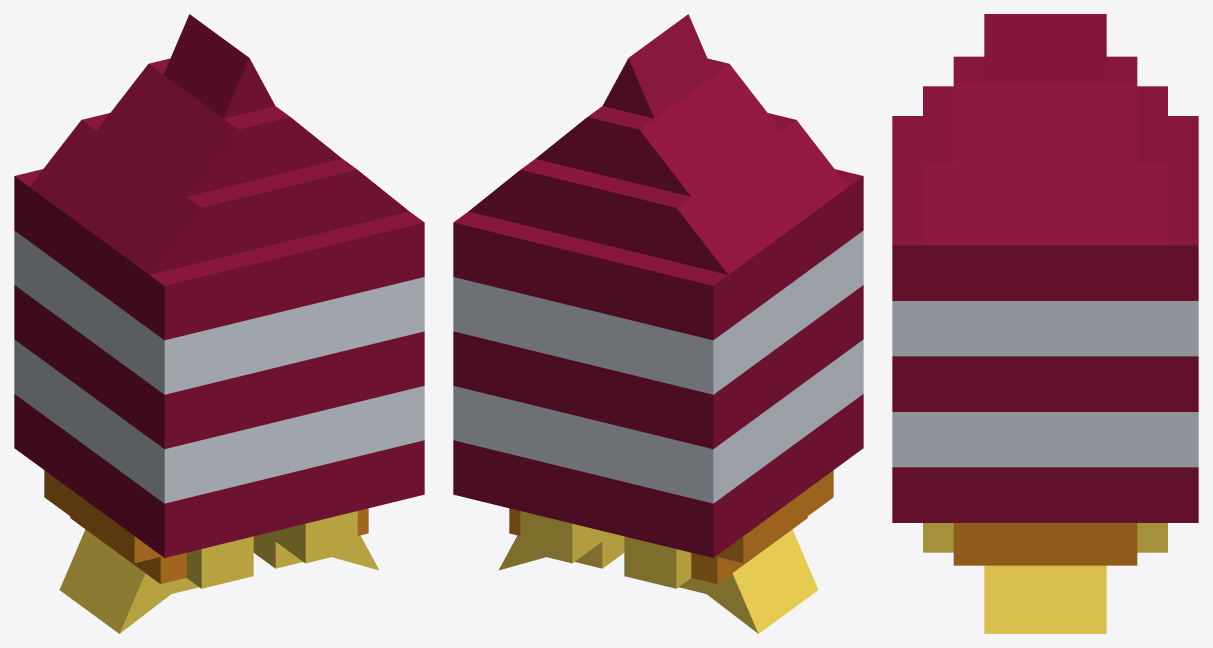
The model's file is bomb.glb.
3 renders of one model, left to right at view 1: azimuth 30°, elevation 25°; view 2: azimuth 150°, elevation 25°; view 3: azimuth 270°, elevation 25°, orthographic. The views are drawn at different scales.
Visible parts, largest first — view 1: generated(Clone); view 2: generated(Clone); view 3: generated(Clone).
Boxes of the visible parts, <box> form: generated(Clone): <box>14,14,424,633</box>; generated(Clone): <box>453,14,863,633</box>; generated(Clone): <box>892,14,1198,633</box>.
Size of the model in its own units: 5 by 10 by 5.
Materials: 1 (1 with a texture image).
